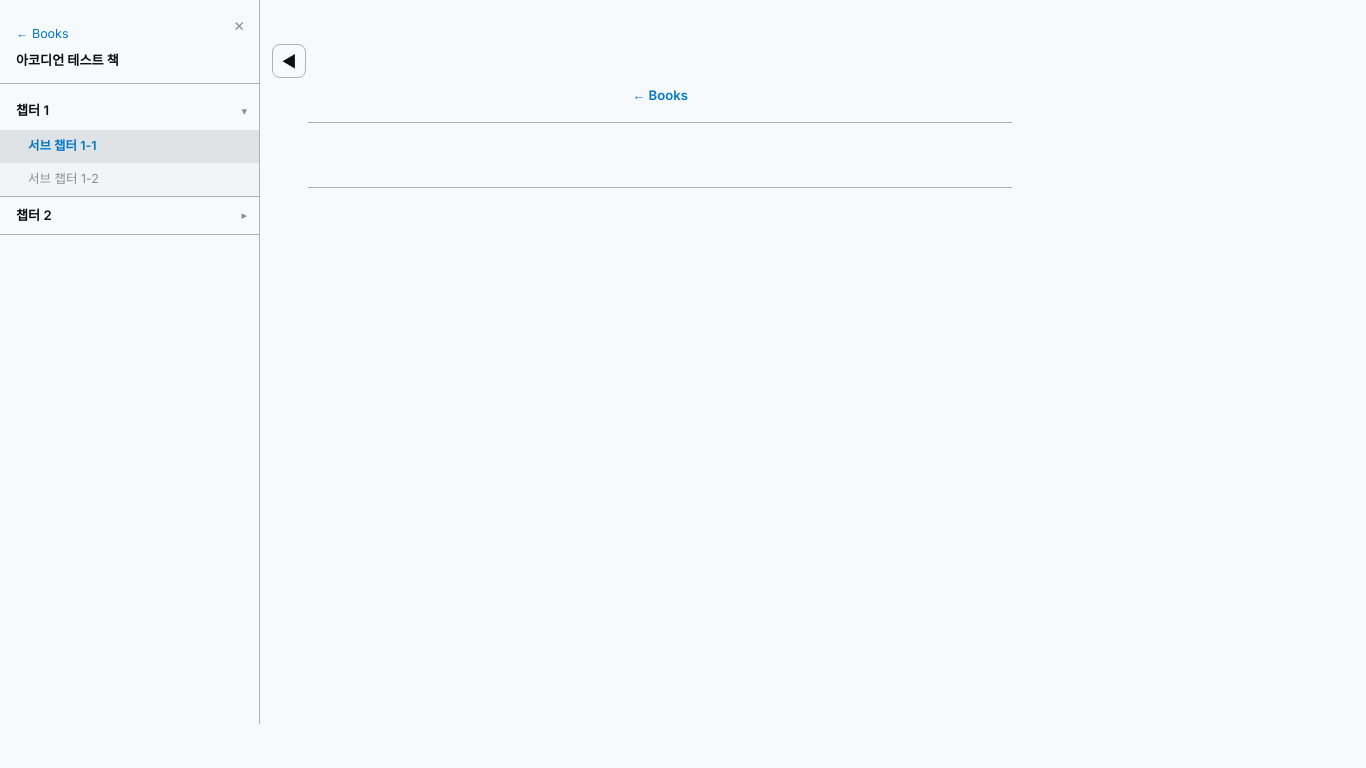
⑥ 아코디언 토글 버튼 — 자식 챕터 표시/숨김 › 열린 챕터의 ▾ 버튼 클릭 시 자식 챕터가 숨겨진다
Check: the link "서브 챕터 1-1" is shown, box 0,130 -> 259,163
Step 1. Click the button named "접기" → (248, 111), box 237,94 -> 259,129
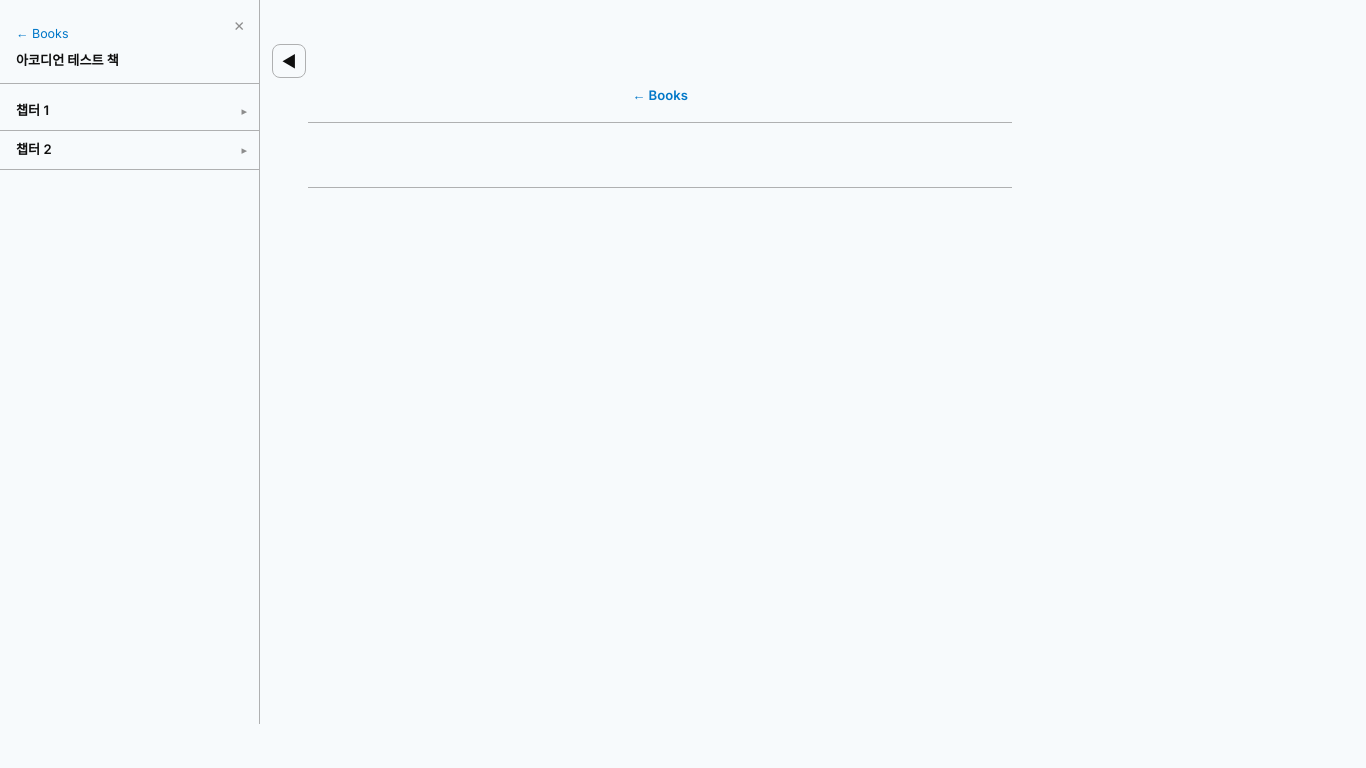
Check: the link "서브 챕터 1-1" is gone
